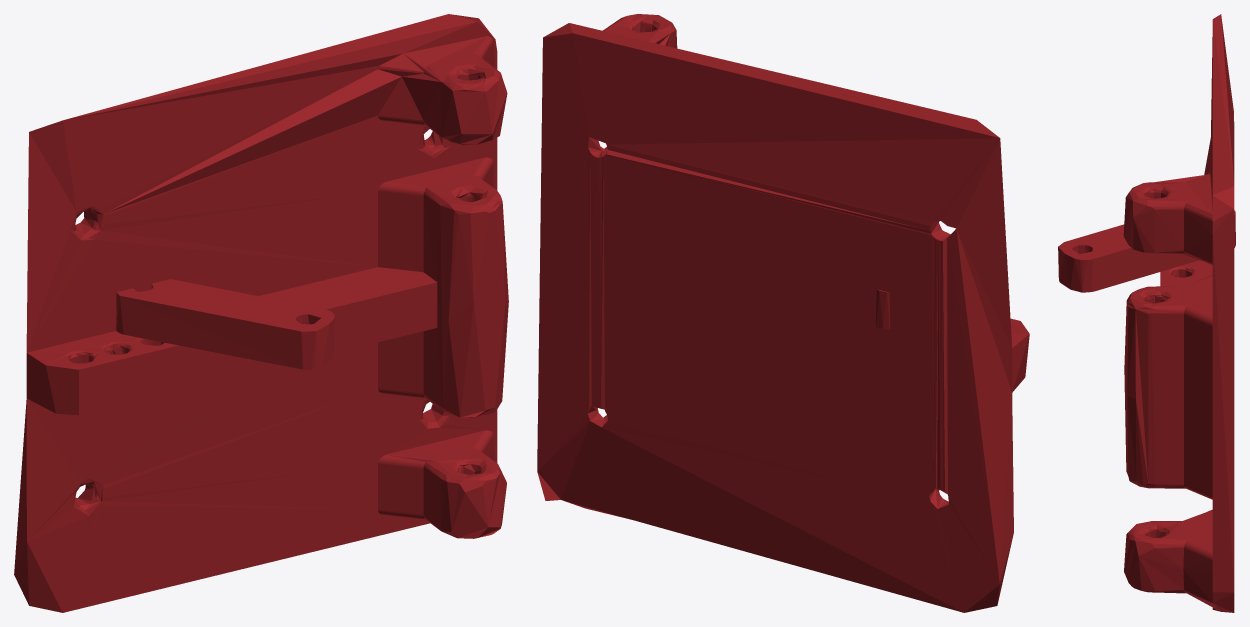
File: mount.obj
3 views of the same model, side by side, from view 1: azimuth 30°, elevation 25°; view 2: azimuth 150°, elevation 25°; view 3: azimuth 270°, elevation 25° (orthographic). The views are drawn at different scales.
Bounding box in the file's own units: 0.0651 × 0.065 × 0.0247.
